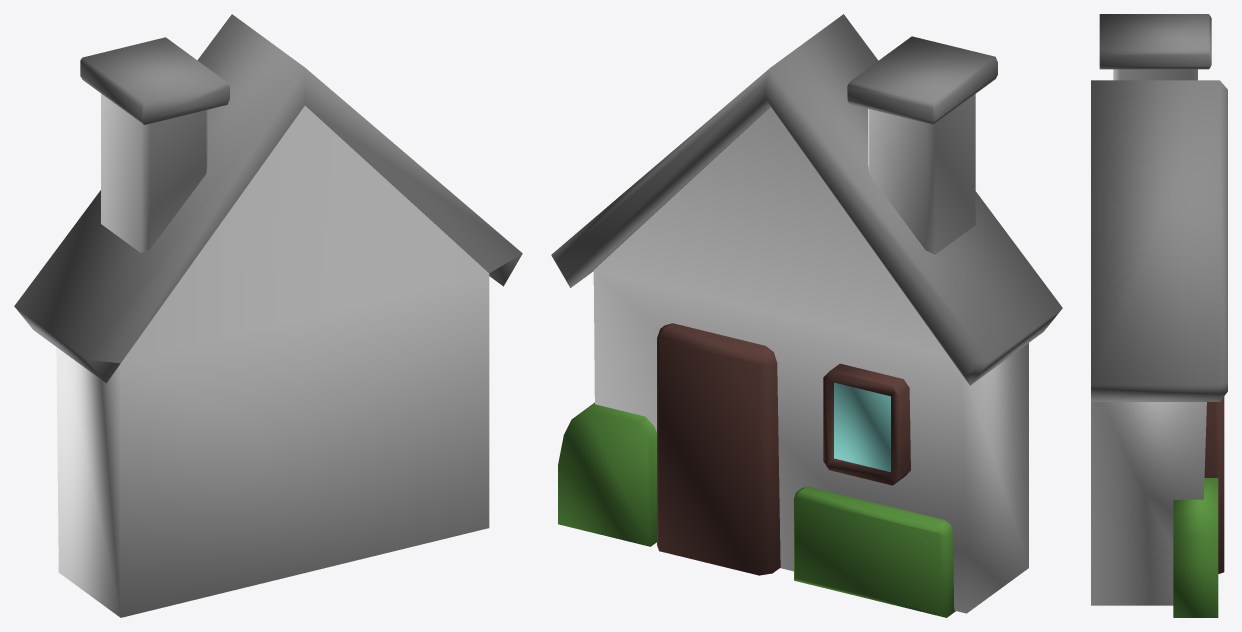
The model's file is HouseIcon.fbx.
The picture shows the model from 3 angles, left to right: view 1: azimuth 30°, elevation 25°; view 2: azimuth 150°, elevation 25°; view 3: azimuth 270°, elevation 25°; orthographic projection. The views are drawn at different scales.
Parts seen in each view (by area): view 1: HouseIcon; view 2: HouseIcon; view 3: HouseIcon.
Part boxes in pixels (x1,y1,x2,y2): HouseIcon: [14, 14, 522, 617]; HouseIcon: [551, 14, 1062, 617]; HouseIcon: [1091, 14, 1227, 617].
Bounding box in the file's own units: 300 × 334 × 92.37.
